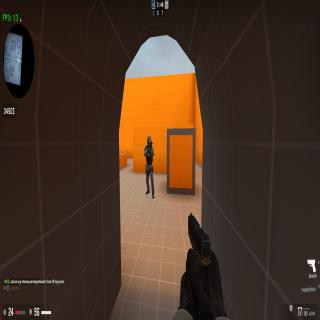CT-Body: (144, 135, 154, 199)
CT-Head: (147, 135, 152, 147)
